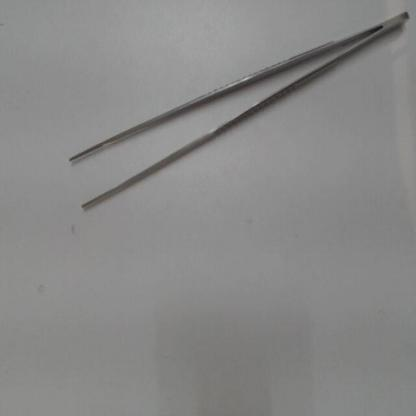DeBakey Dissector: (57, 4, 413, 235)
